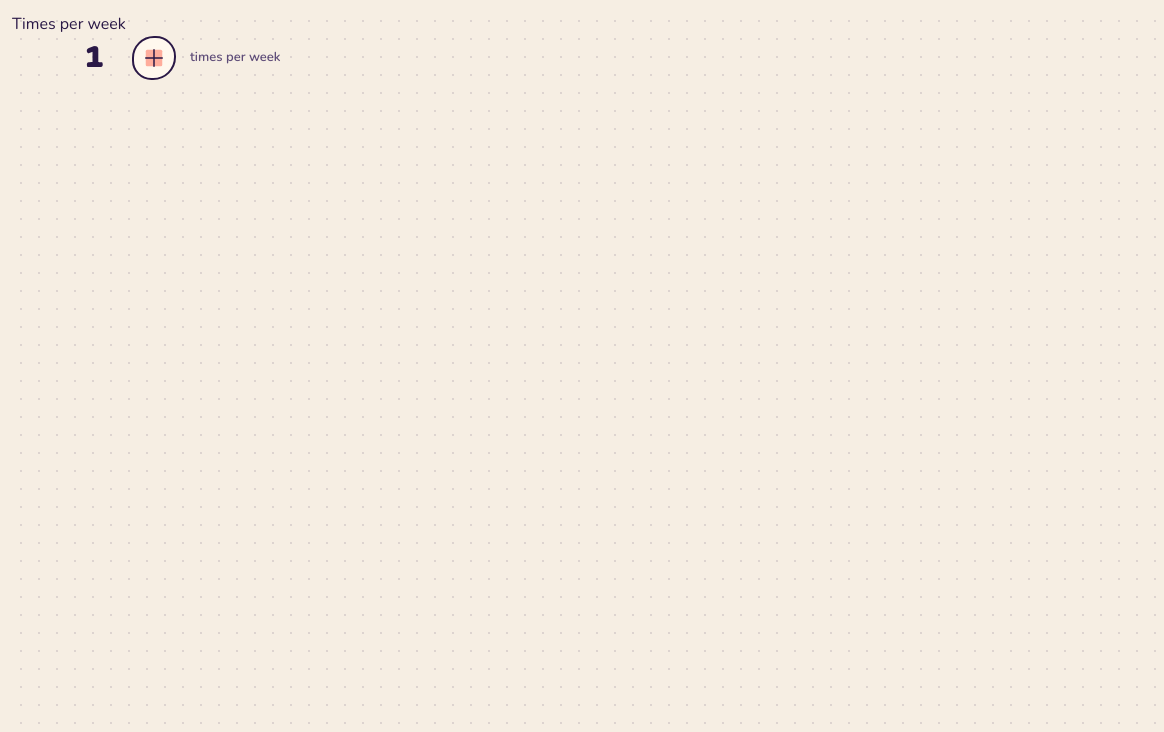
Scenario: Stepper › hides minus at 1 and plus at 7, and moves focus to the other button
Earlier steps of the test are not shown.
Click the button named "More" at (154, 58), box [132,36,176,80]
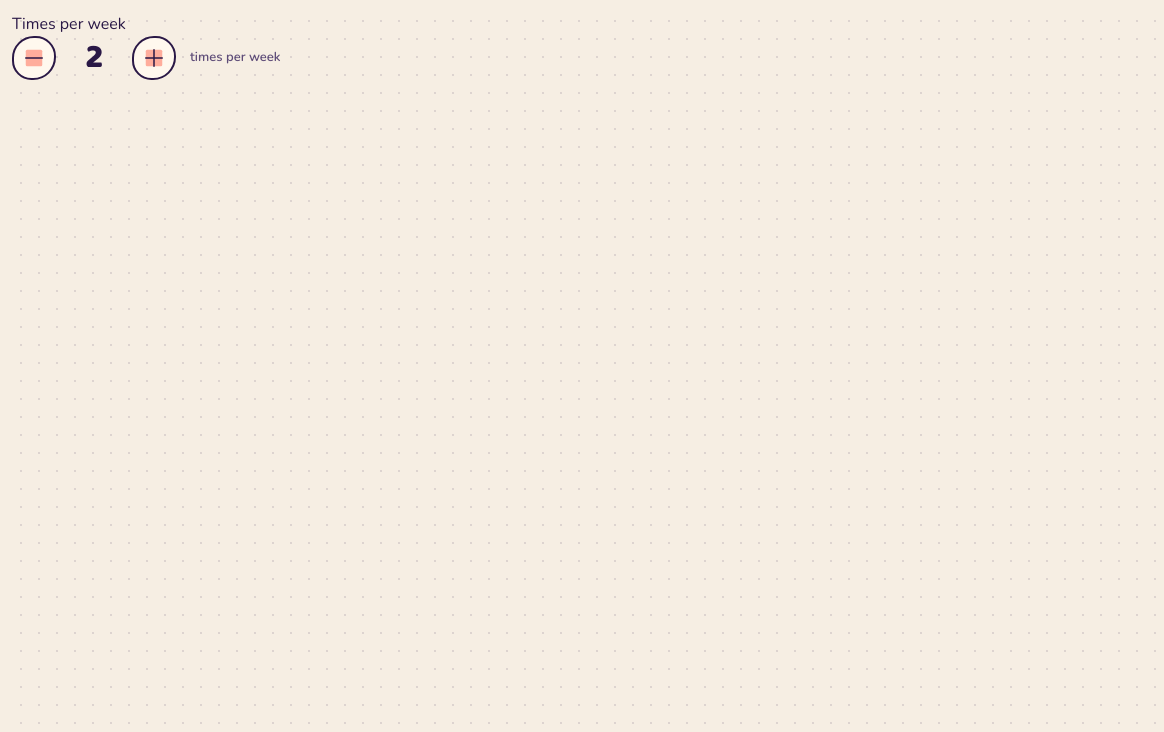
Click the button named "More" at (154, 58), box [132,36,176,80]
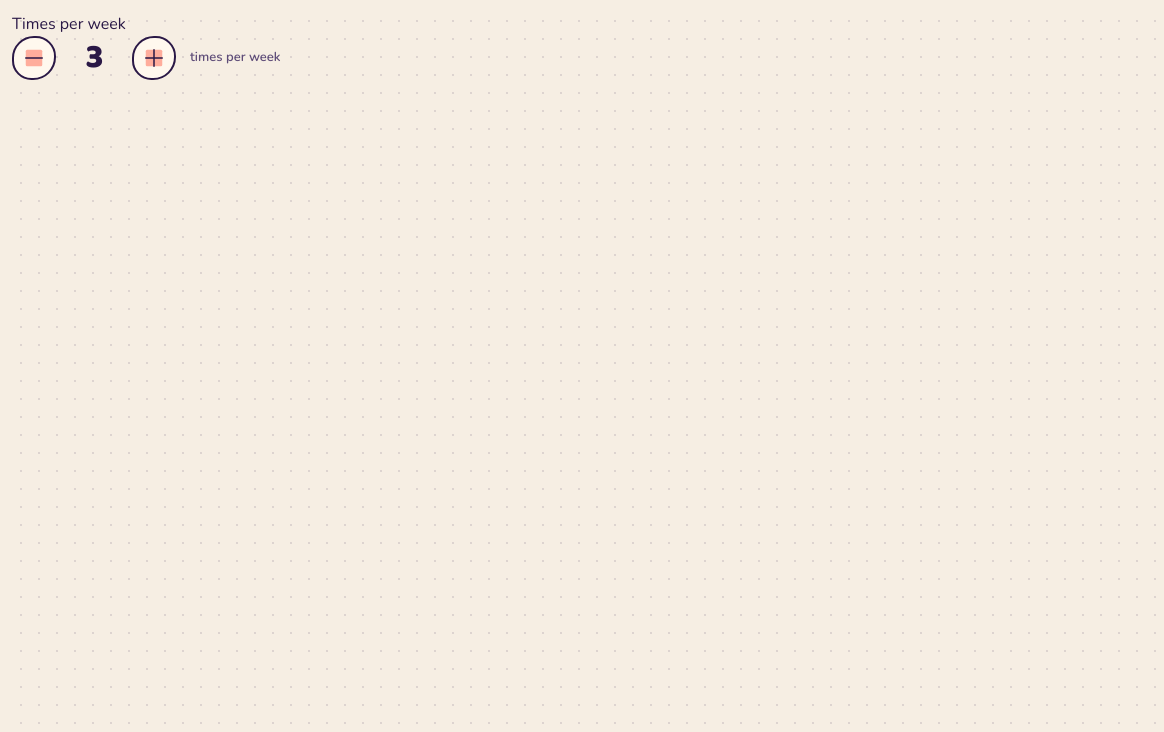
Click the button named "More" at (154, 58), box [132,36,176,80]
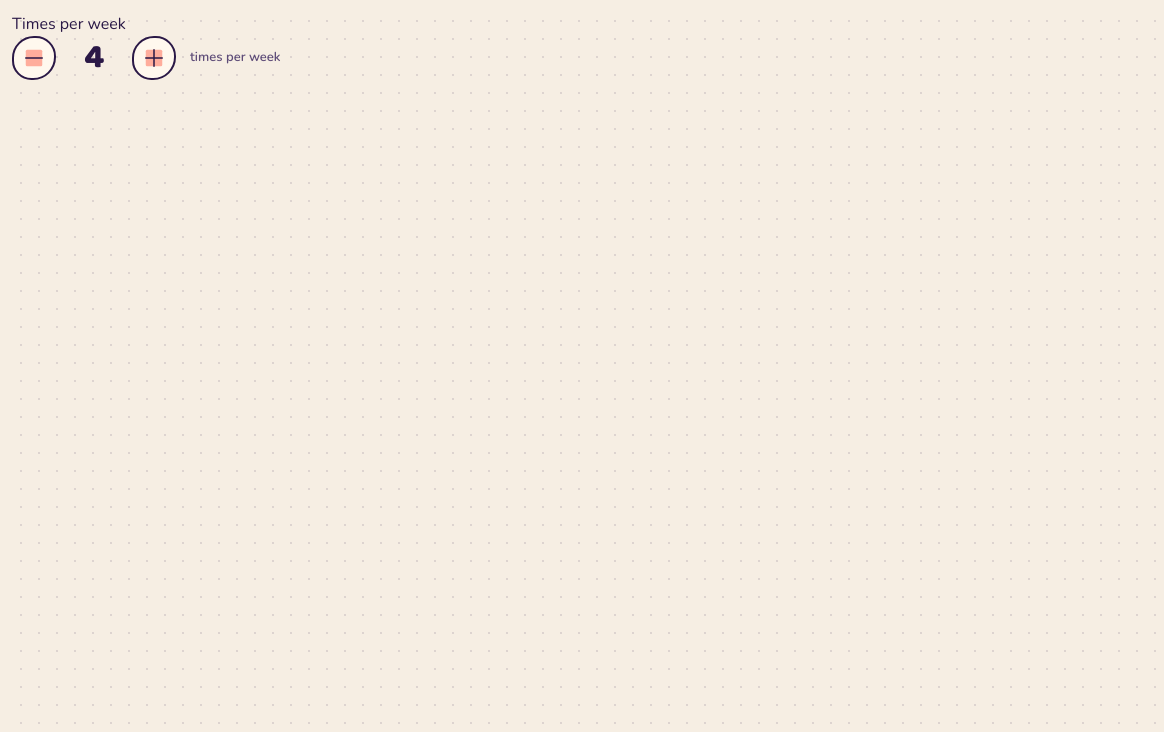
Click the button named "More" at (154, 58), box [132,36,176,80]
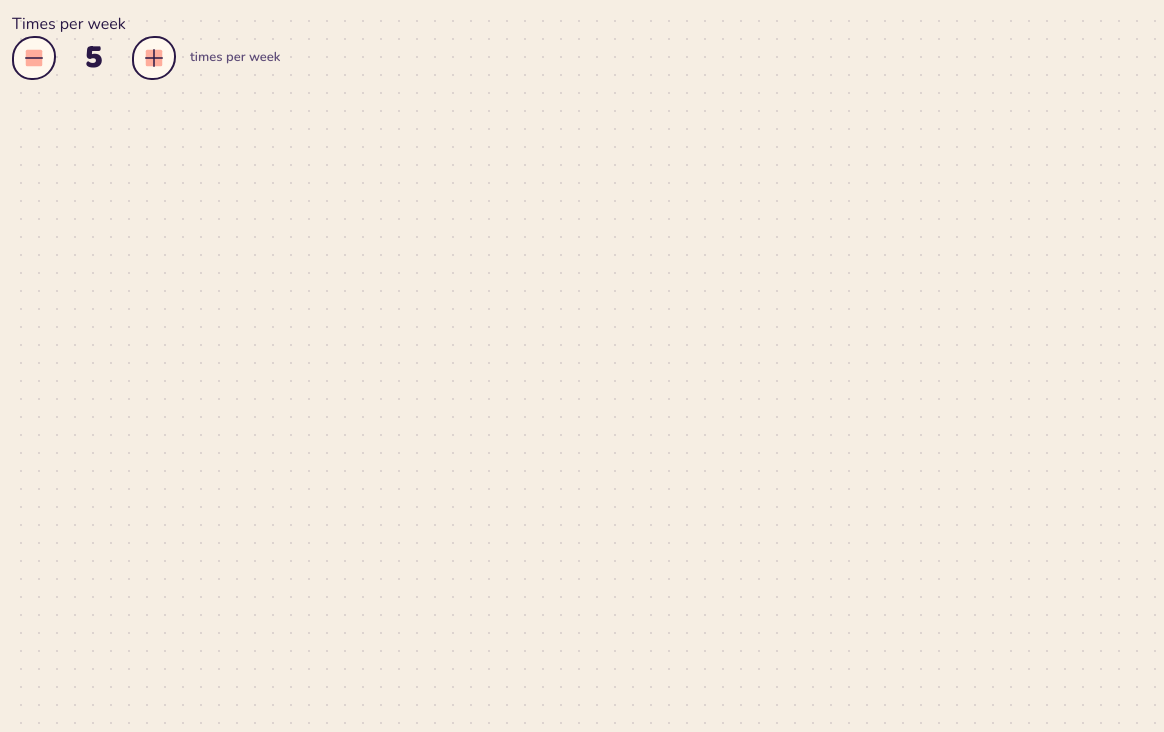
Click the button named "More" at (154, 58), box [132,36,176,80]
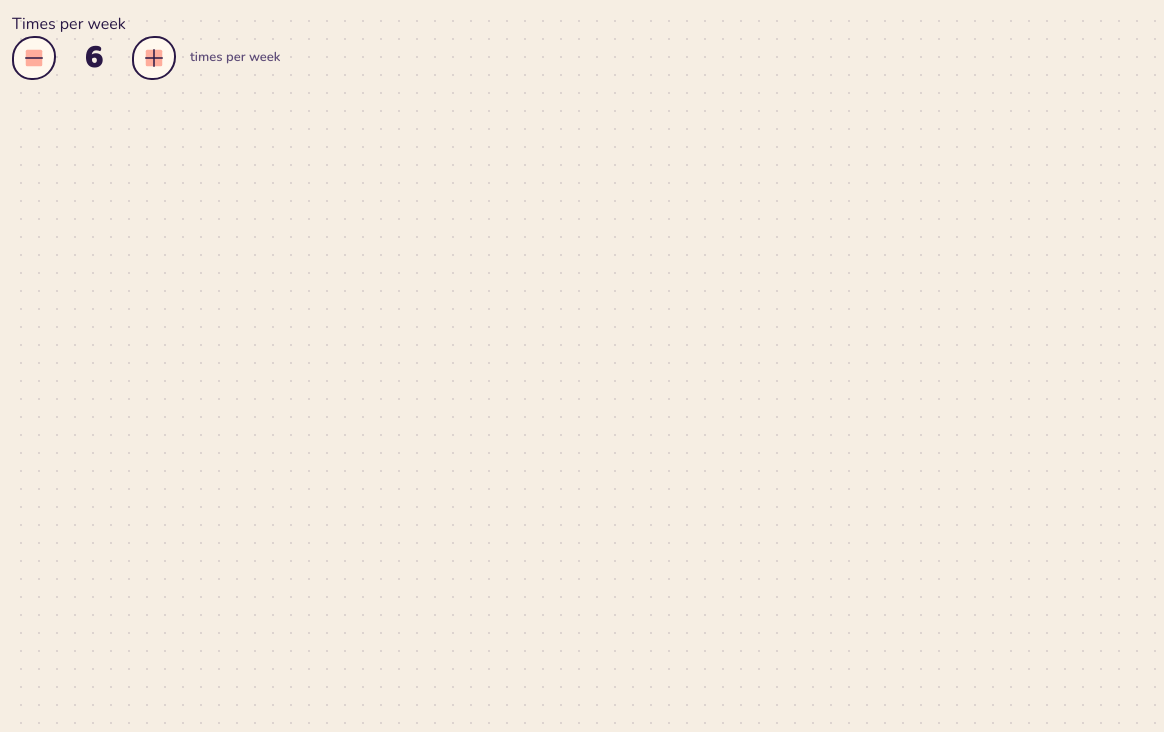
Click the button named "More" at (154, 58), box [132,36,176,80]
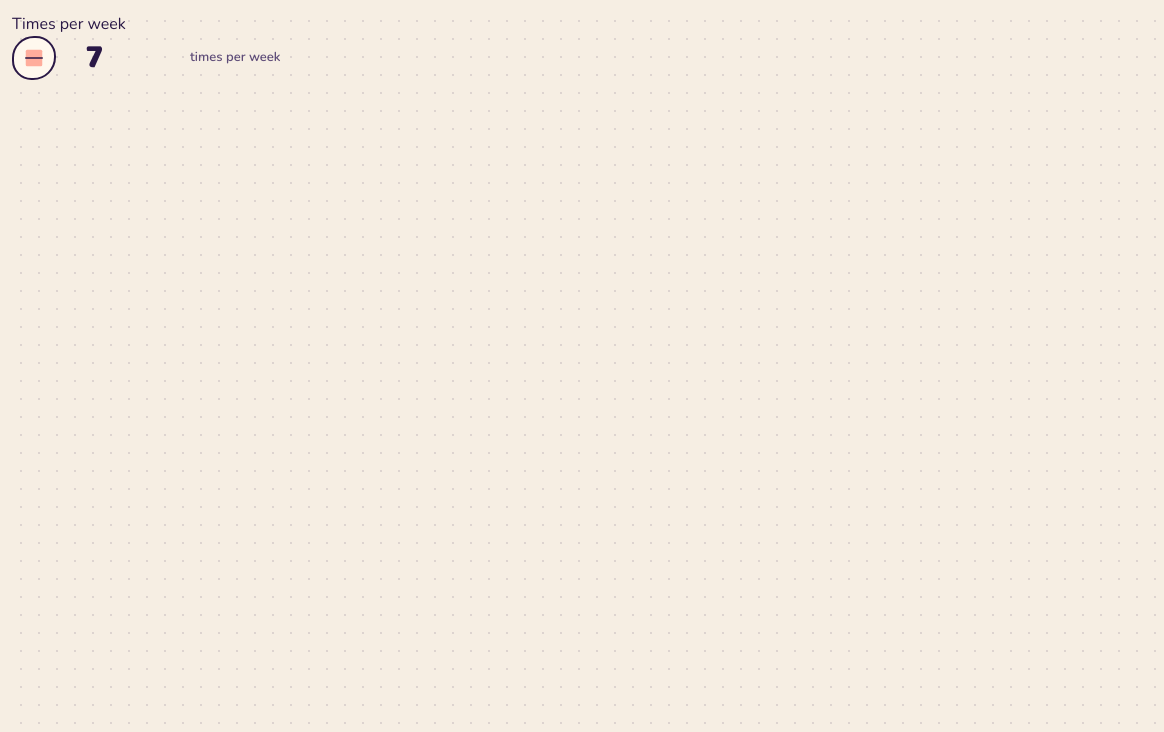
Check: the button "More" is gone
